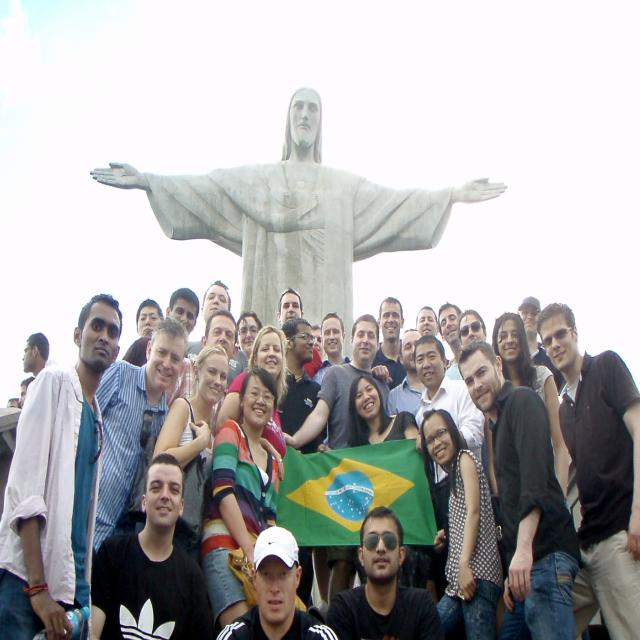body: (83, 79, 513, 363), (0, 292, 118, 640), (454, 342, 584, 640), (535, 299, 640, 640), (280, 313, 391, 609), (90, 316, 186, 553), (90, 452, 210, 640), (199, 367, 281, 629), (419, 408, 506, 640), (150, 342, 231, 565), (276, 316, 334, 614), (324, 504, 446, 640), (490, 311, 570, 503), (216, 524, 340, 640), (212, 324, 290, 482), (164, 309, 238, 438), (371, 329, 455, 419), (184, 277, 248, 393), (120, 286, 202, 367), (312, 312, 354, 453), (516, 295, 566, 397), (370, 296, 408, 390), (437, 300, 464, 372), (236, 310, 264, 361), (21, 332, 51, 378), (456, 308, 487, 350), (276, 287, 304, 328), (136, 297, 164, 337), (3, 377, 34, 413), (307, 324, 326, 374), (415, 306, 440, 340)
